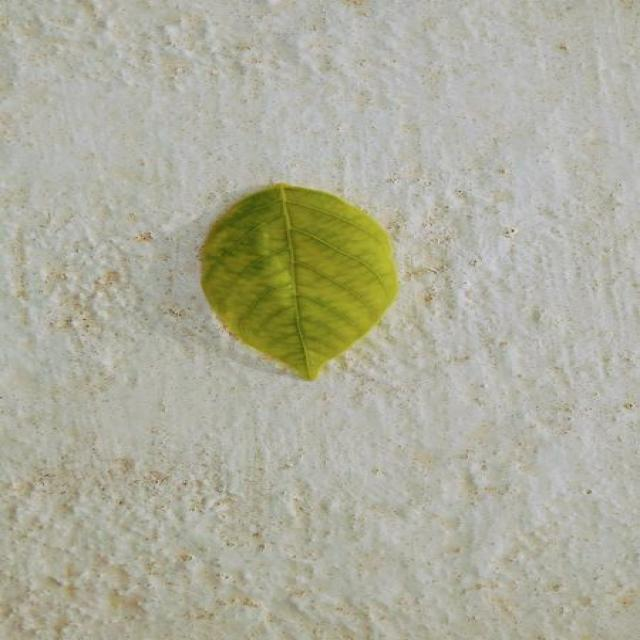honge: (202, 184, 398, 379)
leaf rust: (202, 184, 398, 379)
